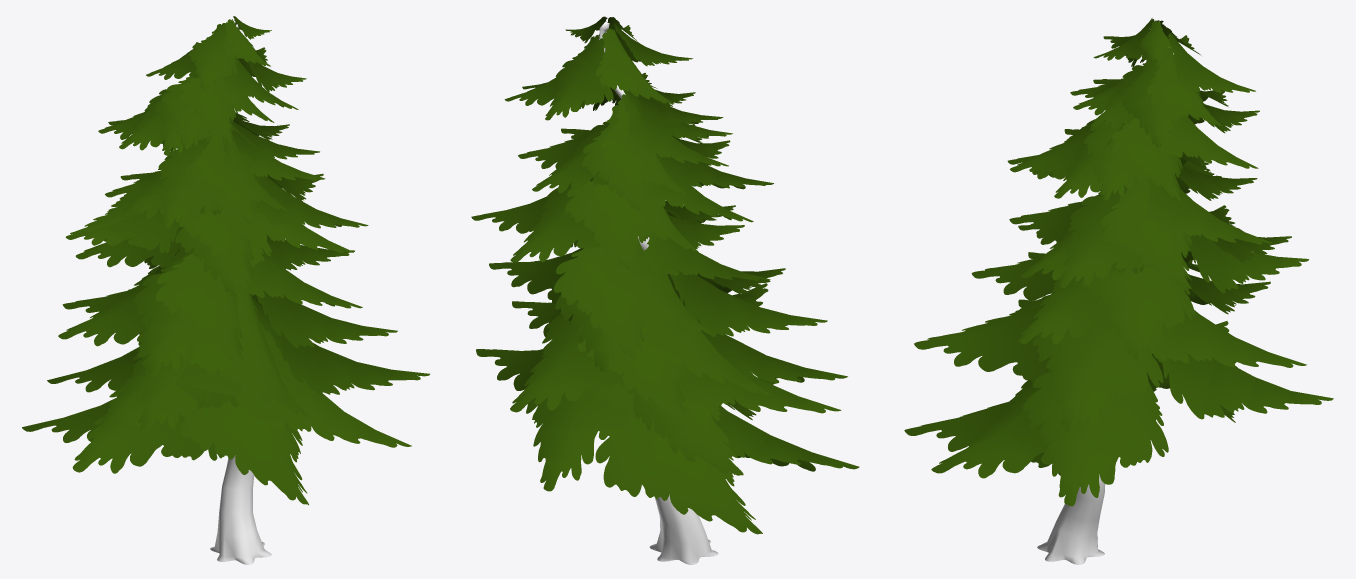
Rendered from pine-5.glb.
The picture shows the model from 3 angles, left to right: view 1: azimuth 30°, elevation 25°; view 2: azimuth 150°, elevation 25°; view 3: azimuth 270°, elevation 25°; orthographic projection. The views are drawn at different scales.
Parts seen in each view (by area): view 1: Pine_5; view 2: Pine_5; view 3: Pine_5.
Boxes of the visible parts, bbox=[...] form: Pine_5: bbox=[22, 16, 429, 564]; Pine_5: bbox=[471, 16, 859, 564]; Pine_5: bbox=[904, 18, 1333, 564].
Bounding box in the file's own units: 6.42 × 8.49 × 6.22.
2 materials, 1 textured.
